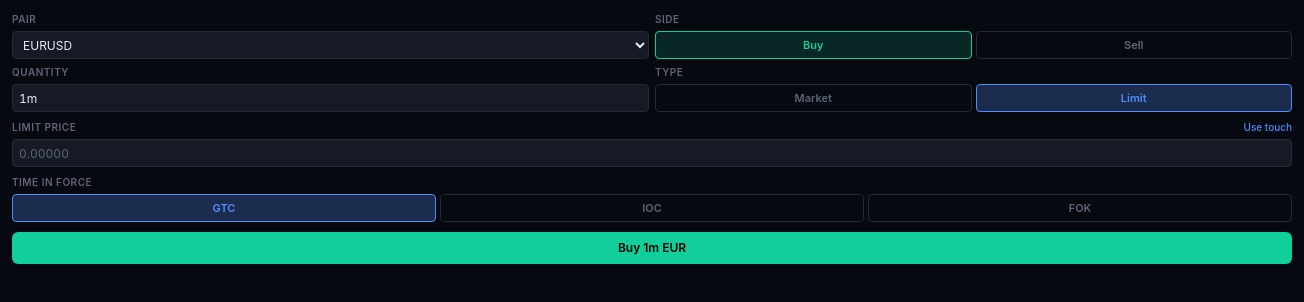
Scenario: OrderTicket › refuses a quantity above the ticket limit
Replace the text in the field with test id "order-quantity" with "500m" at (330, 98), box [12, 84, 649, 112]
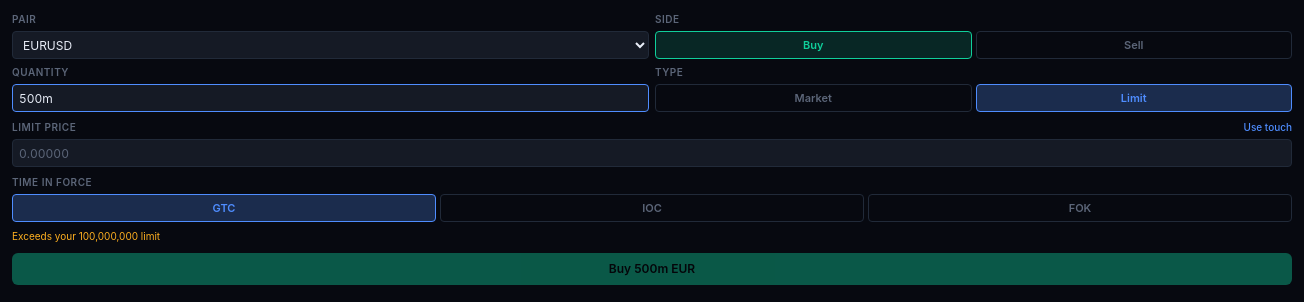
Check: the message with test id "order-entitlement-block" shows "Exceeds", box [12, 230, 160, 242]
Check: the button with test id "order-submit" is disabled, box [12, 252, 1292, 284]
